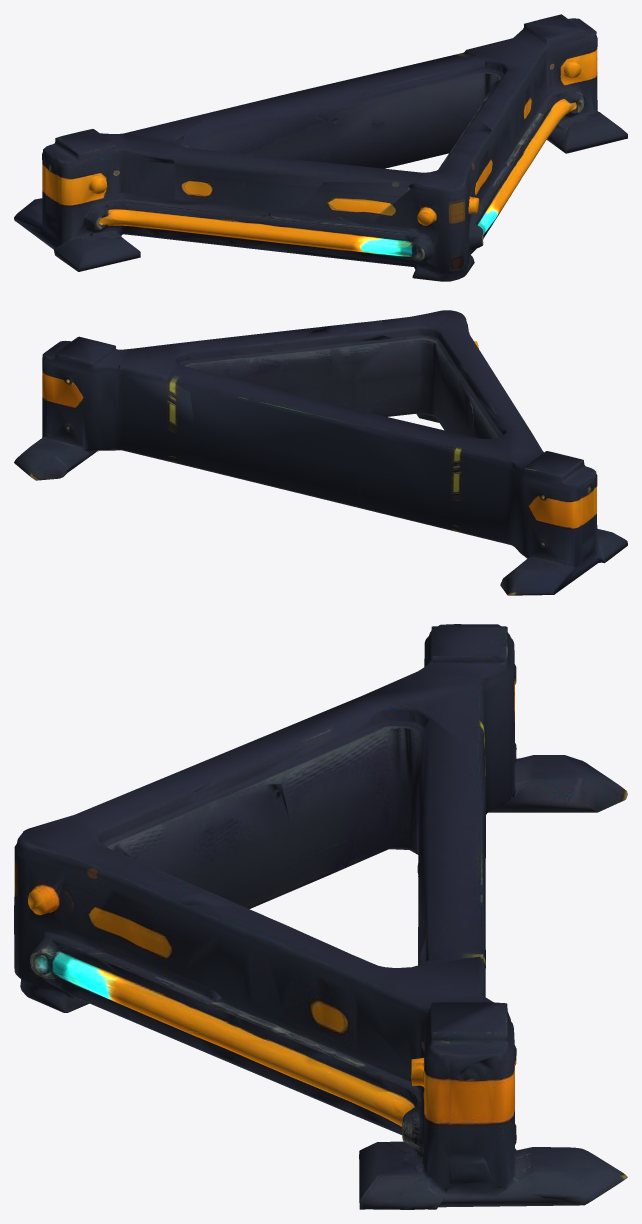
File: straight_cover_barrier.glb
The picture shows the model from 3 angles, top to bottom: view 1: azimuth 30°, elevation 25°; view 2: azimuth 150°, elevation 25°; view 3: azimuth 270°, elevation 25°; orthographic projection. The views are drawn at different scales.
Size of the model in its own units: 1.9 by 0.3212 by 1.12.
1 material, 1 textured.
